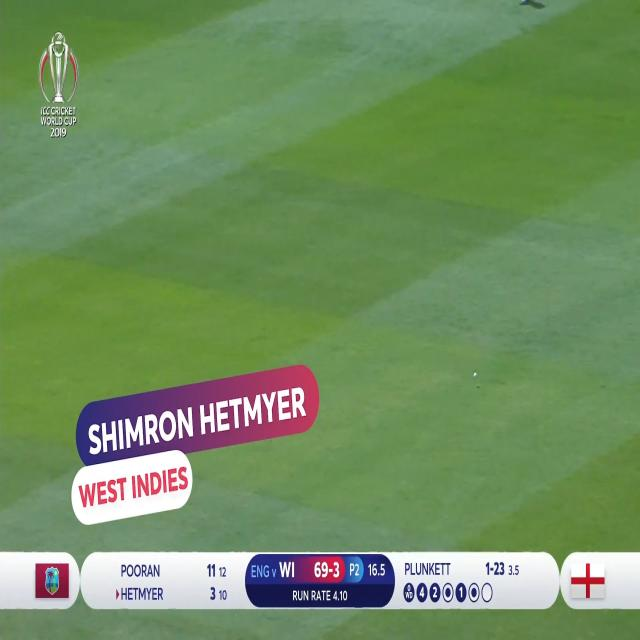ball: (468, 365, 482, 389)
